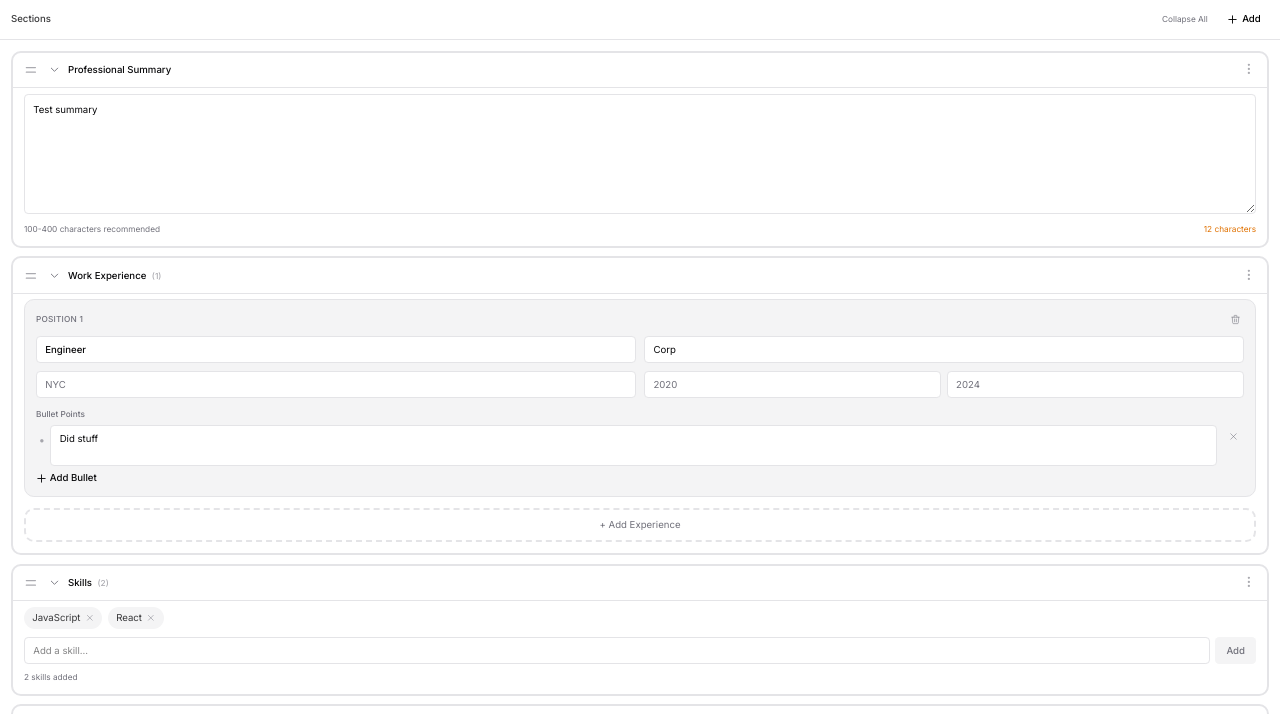
Scenario: SectionList › expands all sections when Expand All is clicked
# First collapse all
Click the button "Collapse All" at (1185, 19), box [1156,11,1213,28]
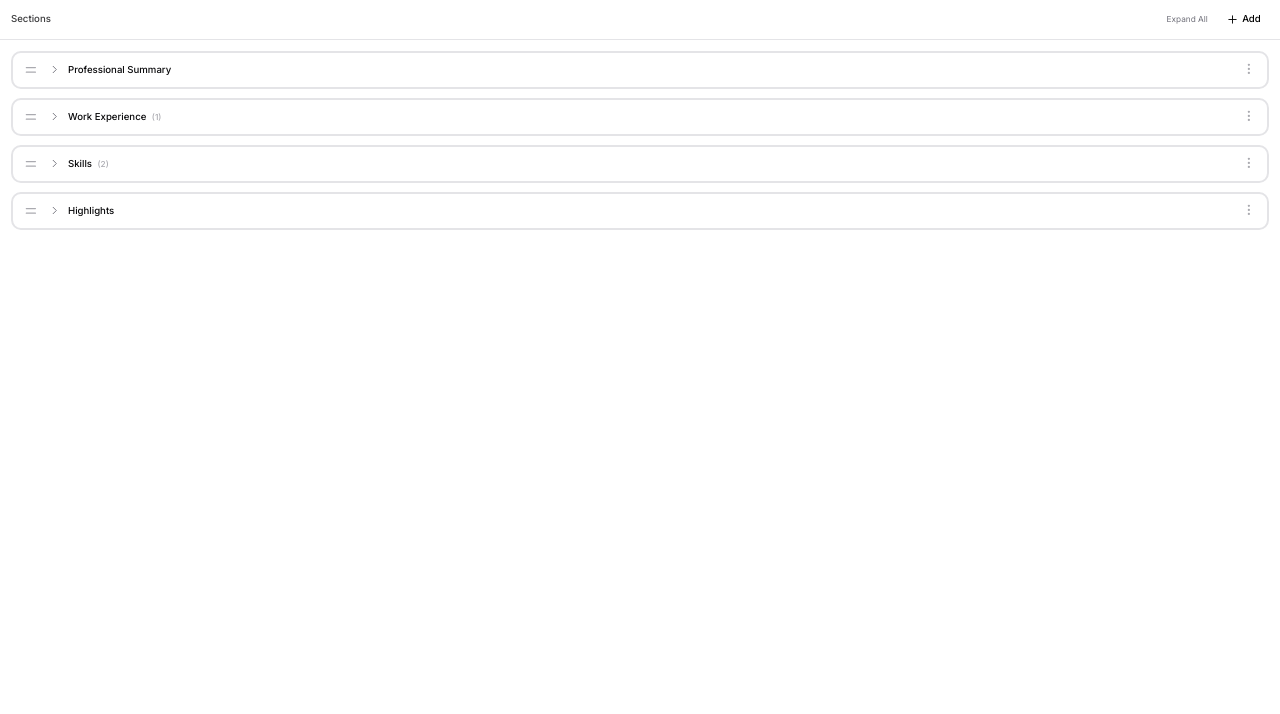
# Then expand all
Click the button "Expand All" at (1187, 19), box [1161,11,1213,28]
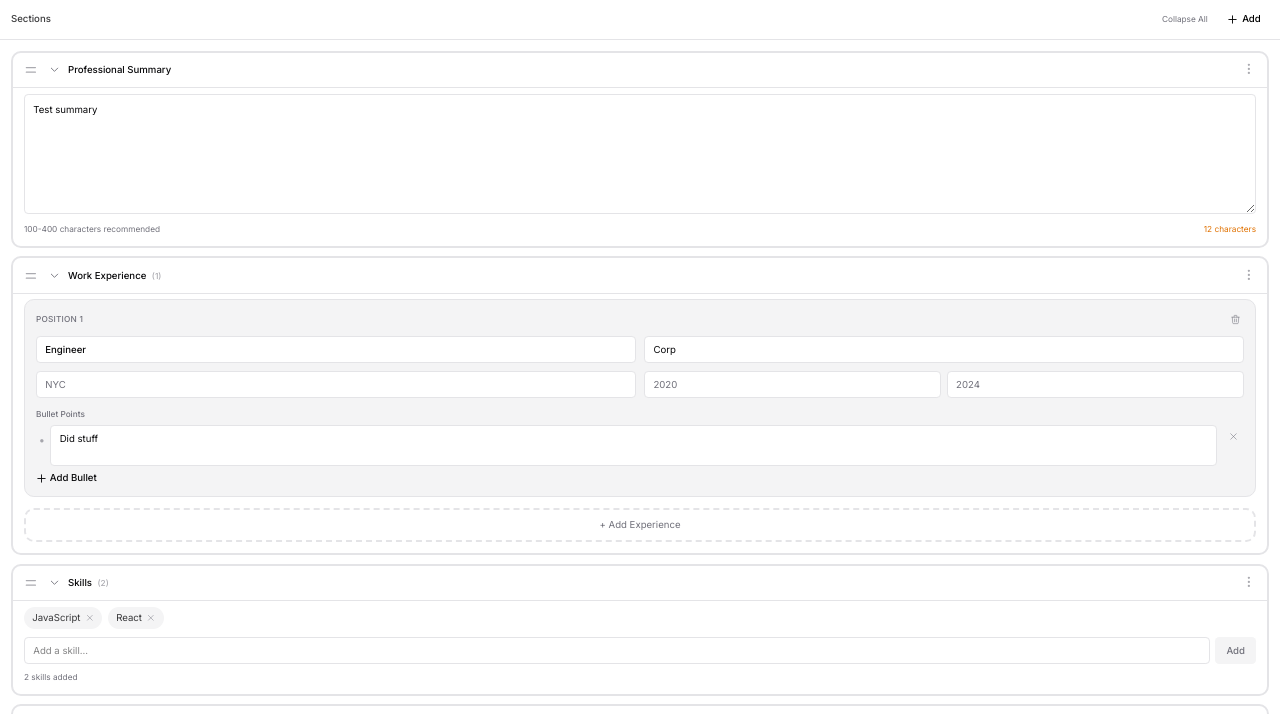
Expected: the button "Collapse All" is shown, [1156,11,1213,28]
